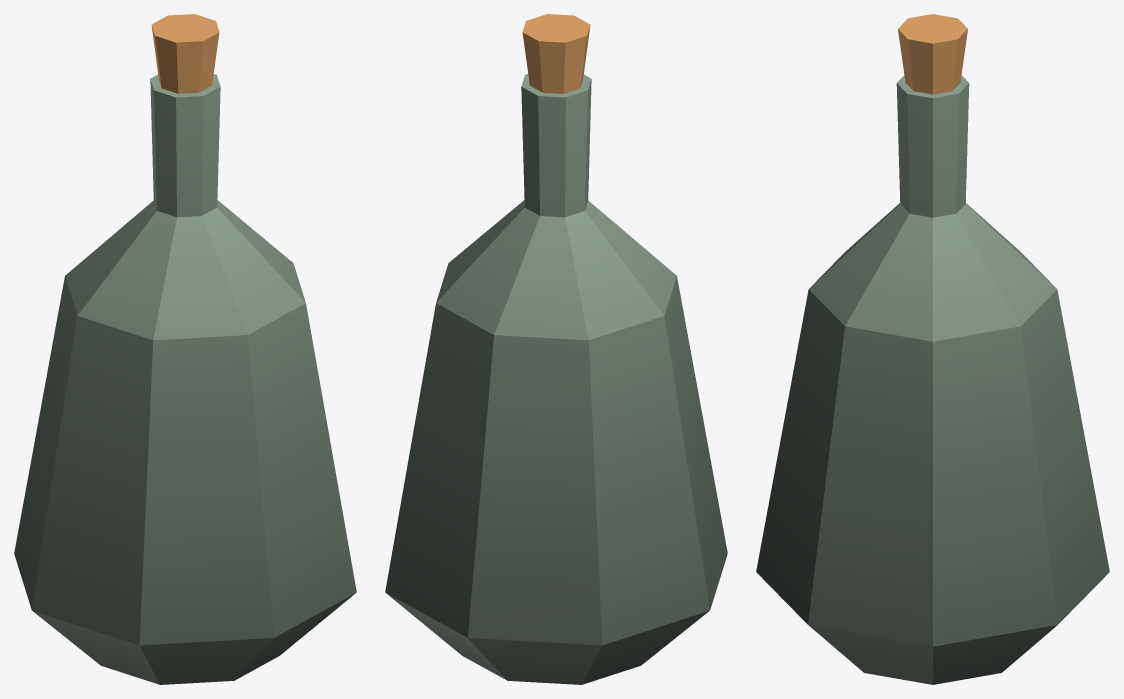
File: KitchenProps_08.fbx
3 renders of one model, left to right at view 1: azimuth 30°, elevation 25°; view 2: azimuth 150°, elevation 25°; view 3: azimuth 270°, elevation 25°, orthographic.
Visible parts, largest first — view 1: KitchenProps_08; view 2: KitchenProps_08; view 3: KitchenProps_08.
Boxes of the visible parts, bbox=[...] form: KitchenProps_08: bbox=[14, 14, 356, 684]; KitchenProps_08: bbox=[385, 14, 727, 684]; KitchenProps_08: bbox=[756, 14, 1109, 684].
Bounding box in the file's own units: 9.08 × 17.42 × 9.08.
